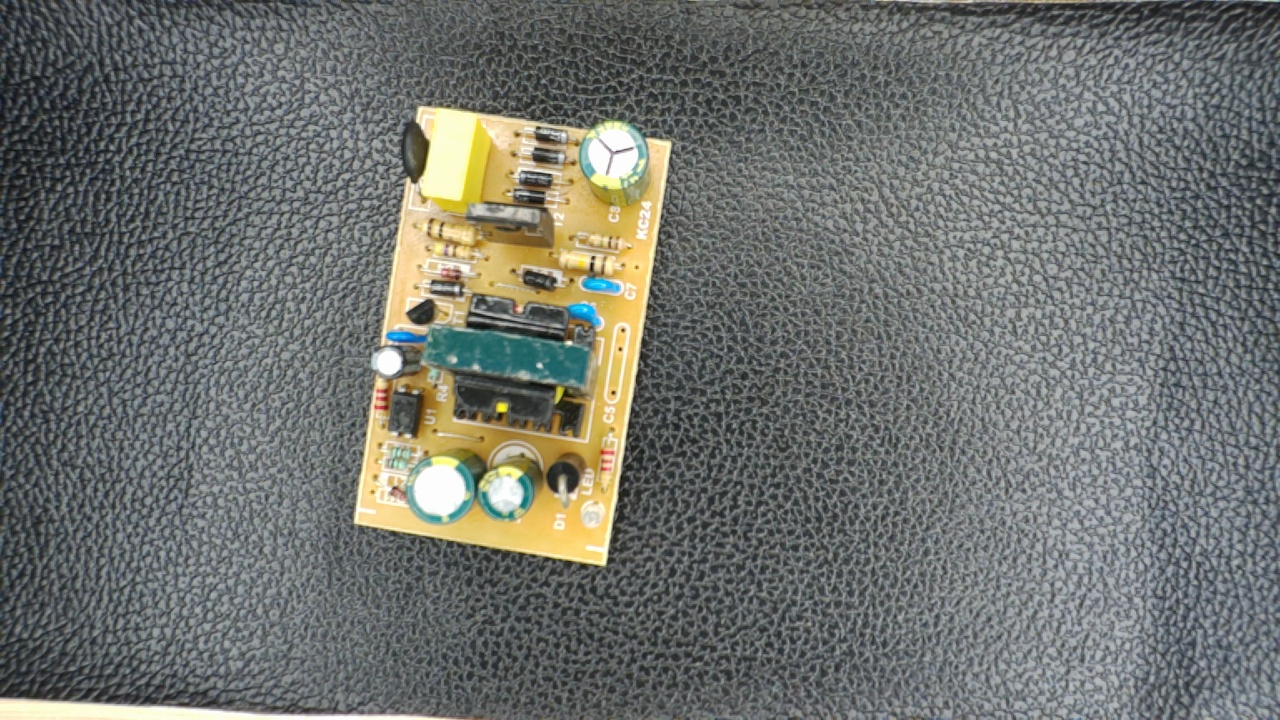fuse: (396, 116, 431, 200)
hv_capacitor: (576, 119, 651, 210)
optocoupler: (383, 381, 432, 441)
